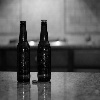beer: (15, 19, 35, 85)
